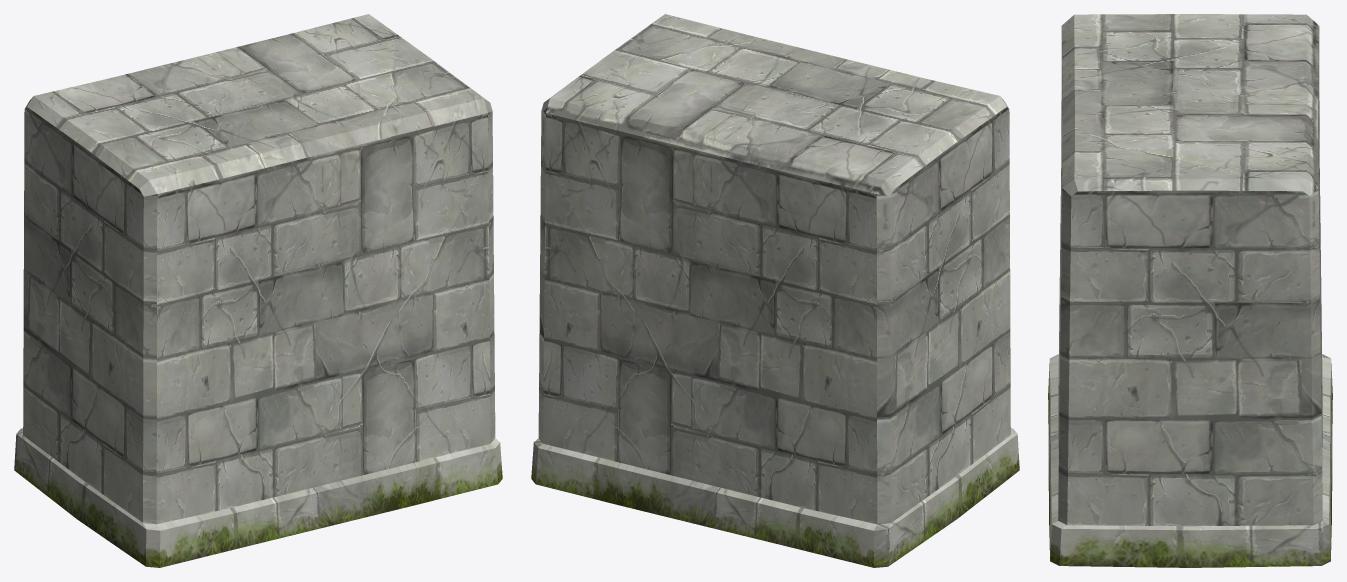
The model's file is Wall_Block_01.FBX.
3 renders of one model, left to right at view 1: azimuth 30°, elevation 25°; view 2: azimuth 150°, elevation 25°; view 3: azimuth 270°, elevation 25°, orthographic.
Parts seen in each view (by area): view 1: Wall_Block_01; view 2: Wall_Block_01; view 3: Wall_Block_01.
Boxes of the visible parts, x1,y1,x2,y2 form: Wall_Block_01: (14, 14, 502, 567); Wall_Block_01: (531, 14, 1019, 567); Wall_Block_01: (1048, 14, 1332, 567).
Bounding box in the file's own units: 147 × 146 × 98.95.
